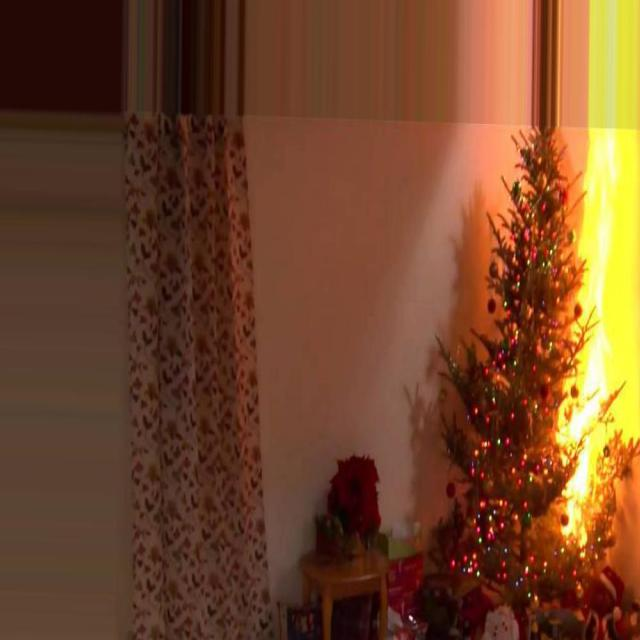fire: (553, 0, 638, 535)
other: (319, 424, 393, 554)
